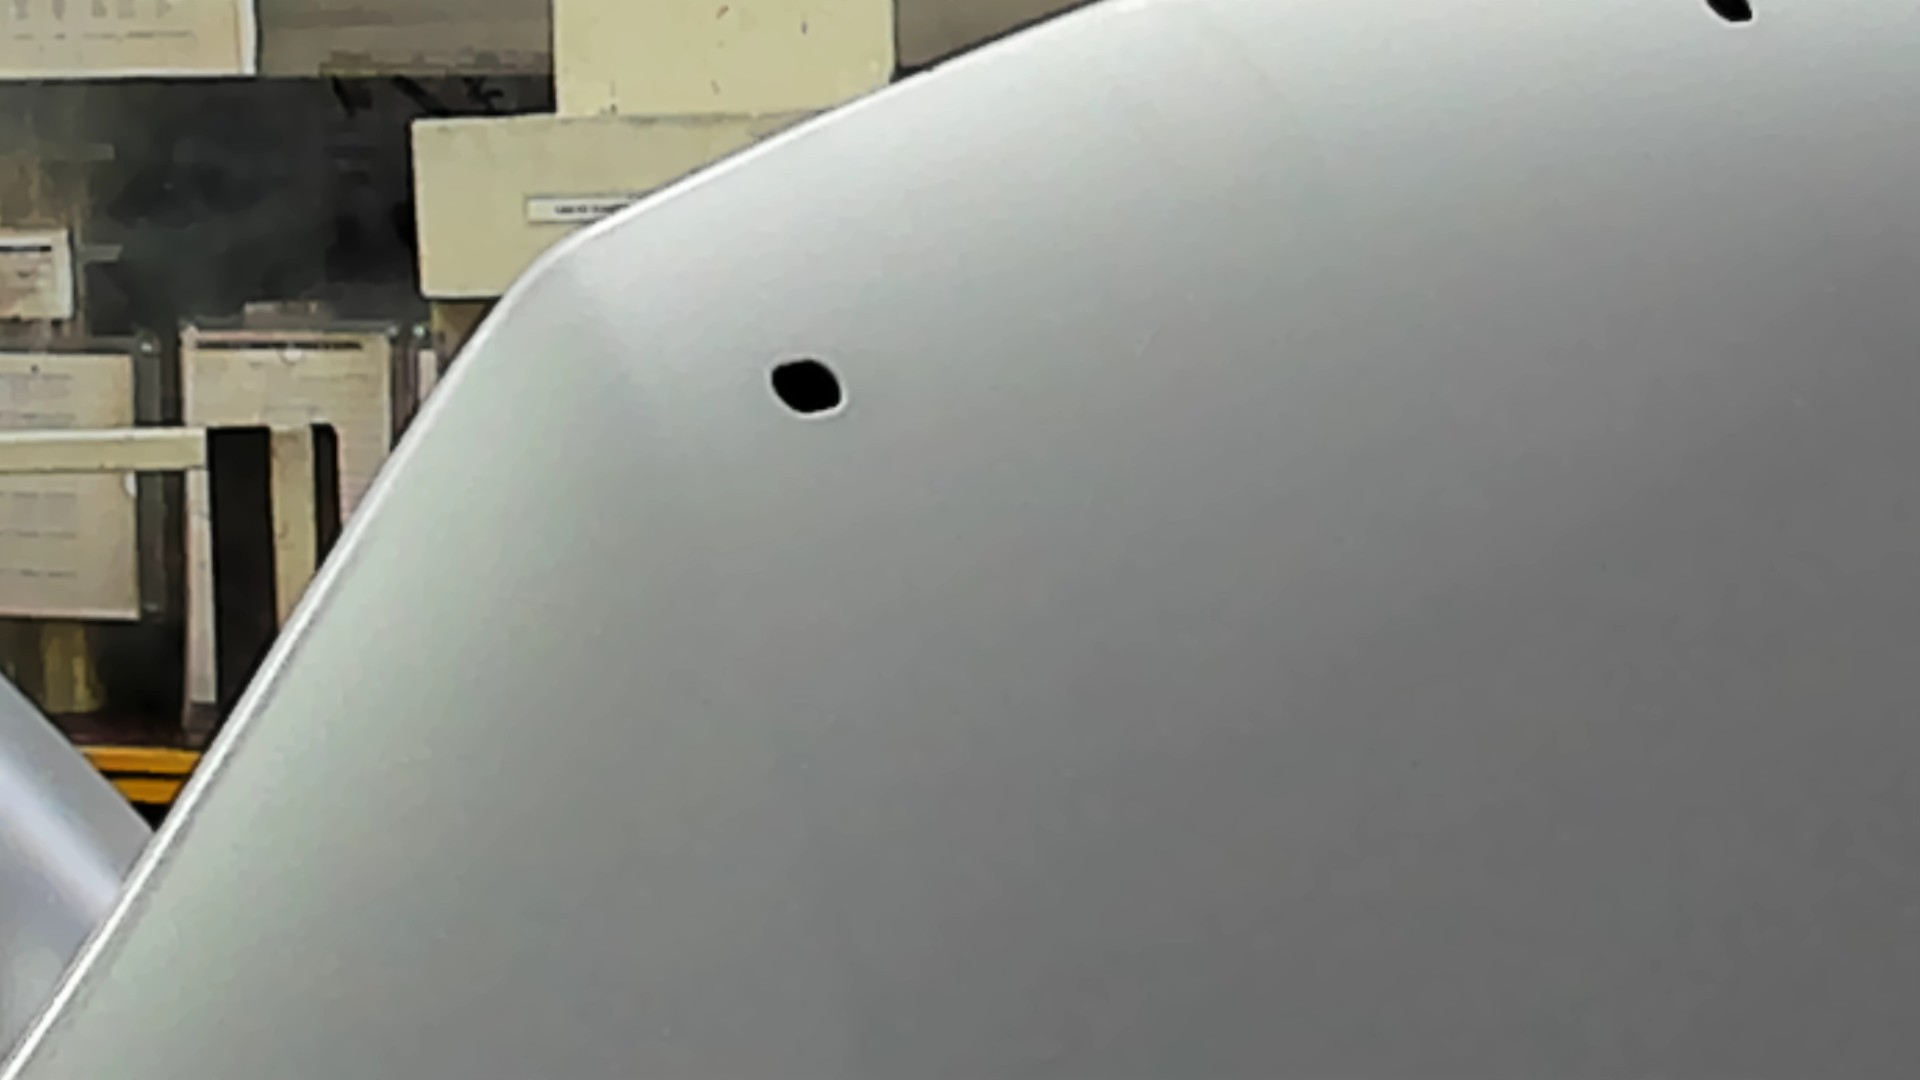amorfo: (765, 347, 855, 426), (1696, 1, 1763, 33)
